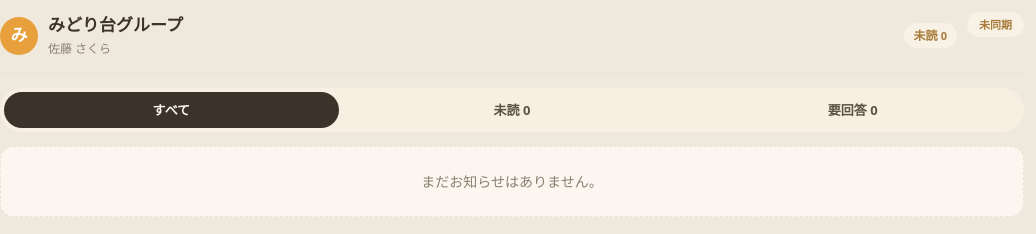
the 要回答 tab › drops a post whose deadline has passed
What coordinates should you click on to do the following:
click the button with test id "tab-answer"
I would click on:
 (853, 110)
Its box is [685,92,1020,128].
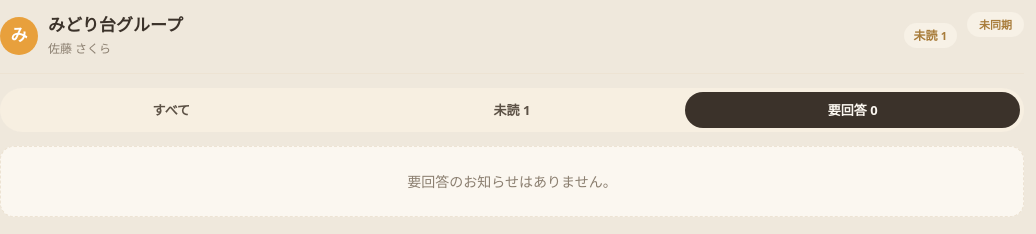
Now the text with test id "empty" shows "要回答", box [0,146,1024,218]
